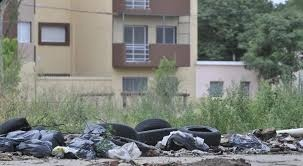rubble: (1, 128, 86, 158), (223, 129, 298, 152)
tire: (134, 119, 178, 150), (86, 122, 133, 148), (179, 125, 222, 150)
